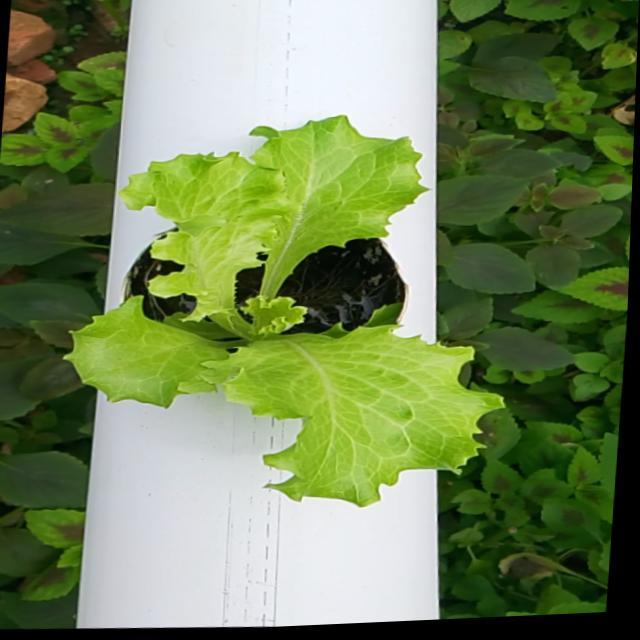Baby: (53, 120, 491, 509)
